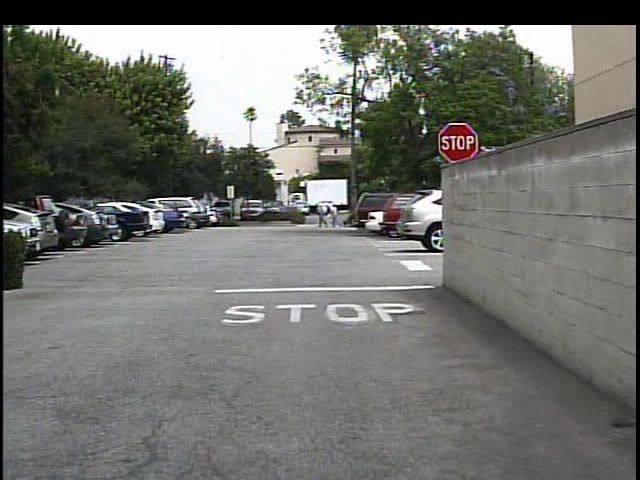person: (326, 204, 340, 231), (312, 204, 326, 230)
